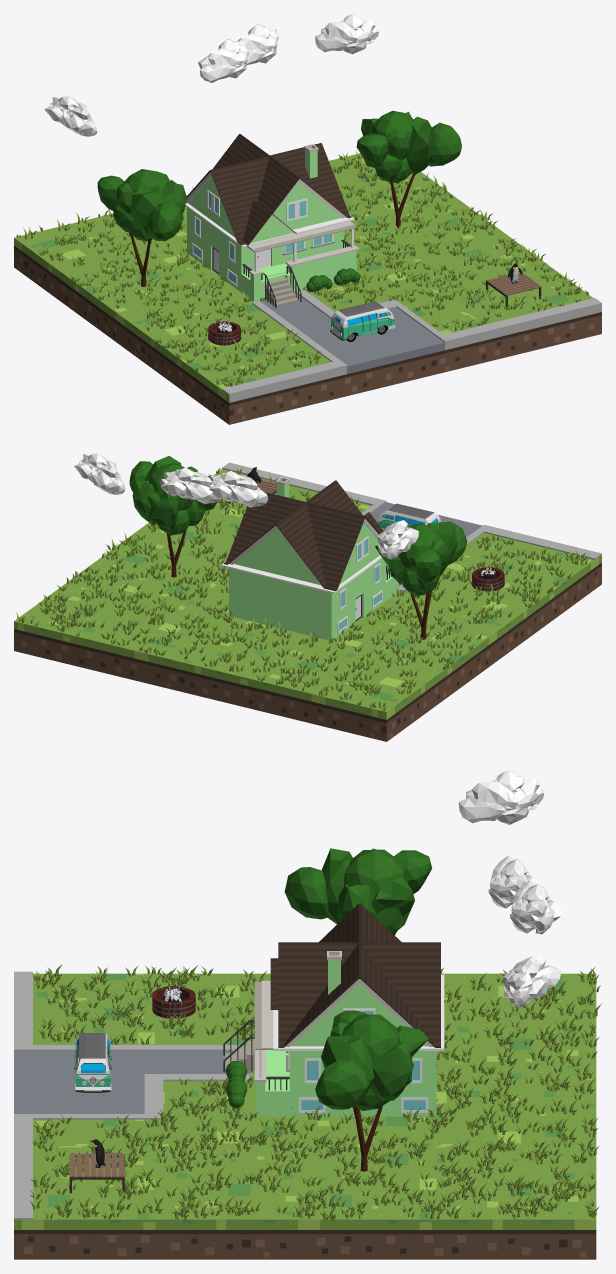
3 renders of one model, top to bottom at view 1: azimuth 30°, elevation 25°; view 2: azimuth 150°, elevation 25°; view 3: azimuth 270°, elevation 25°, orthographic. The views are drawn at different scales.
Parts seen in each view (by area): view 1: Cube.006, Cube.274, Circle.012_Grass_0.192, Cube.007, tree, tree.001, VEHICLES_VAN, Cube.009, OBJRANDOM_CAMPFIRE; view 2: Cube.006, Cube.274, Circle.012_Grass_0.192, Cube.007, tree.001, tree, VEHICLES_VAN, OBJRANDOM_CAMPFIRE; view 3: Cube.006, Circle.012_Grass_0.192, Cube.274, tree, Cube.007, tree.001, VEHICLES_VAN, Cube.009, OBJRANDOM_CAMPFIRE.
Part boxes in pixels (<box>): Cube.006: <box>14,153,601,424</box>; Cube.274: <box>185,134,359,308</box>; Circle.012_Grass_0.192: <box>16,150,588,386</box>; Cube.007: <box>44,14,378,136</box>; tree: <box>356,110,461,228</box>; tree.001: <box>97,169,186,286</box>; VEHICLES_VAN: <box>330,301,395,341</box>; Cube.009: <box>486,272,541,306</box>; OBJRANDOM_CAMPFIRE: <box>208,319,241,345</box>; Cube.006: <box>14,462,601,741</box>; Cube.274: <box>221,477,398,640</box>; Circle.012_Grass_0.192: <box>16,468,588,711</box>; Cube.007: <box>74,453,418,559</box>; tree.001: <box>375,521,467,639</box>; tree: <box>129,456,216,577</box>; VEHICLES_VAN: <box>378,503,441,530</box>; OBJRANDOM_CAMPFIRE: <box>472,567,504,591</box>; Cube.006: <box>14,971,596,1259</box>; Circle.012_Grass_0.192: <box>29,964,601,1220</box>; Cube.274: <box>223,903,444,1116</box>; tree: <box>315,1010,428,1171</box>; Cube.007: <box>458,770,561,1007</box>; tree.001: <box>284,848,432,935</box>; VEHICLES_VAN: <box>74,1033,112,1092</box>; Cube.009: <box>69,1153,124,1193</box>; OBJRANDOM_CAMPFIRE: <box>152,984,195,1018</box>.
Bounding box in the file's own units: 4071 × 2198 × 4040.
38 materials, 4 textured.
